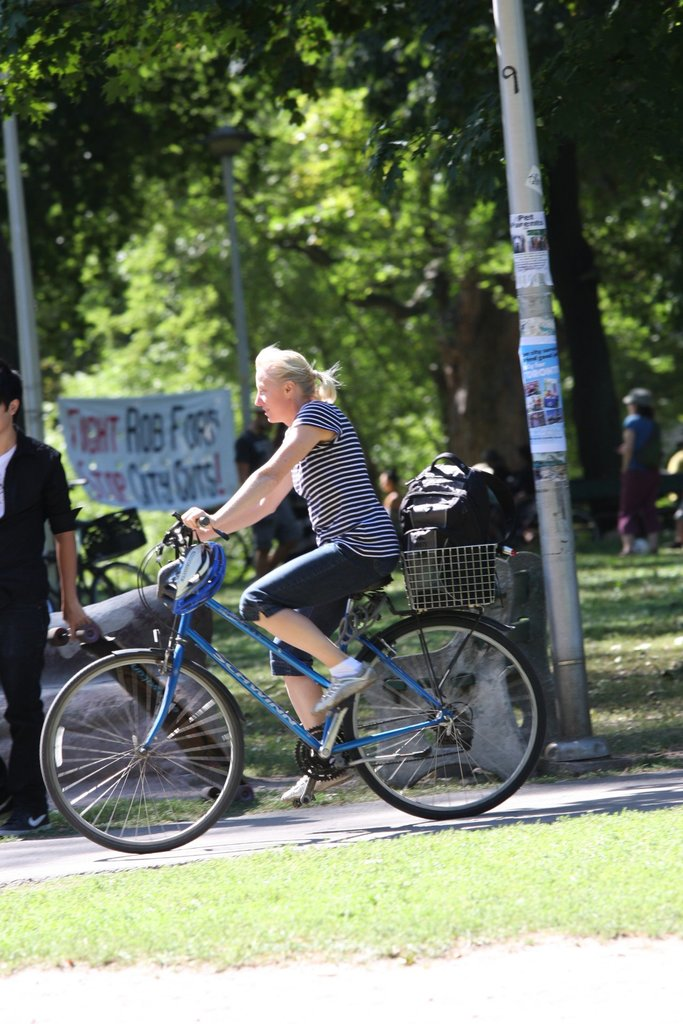Bike: (43, 516, 556, 836)
